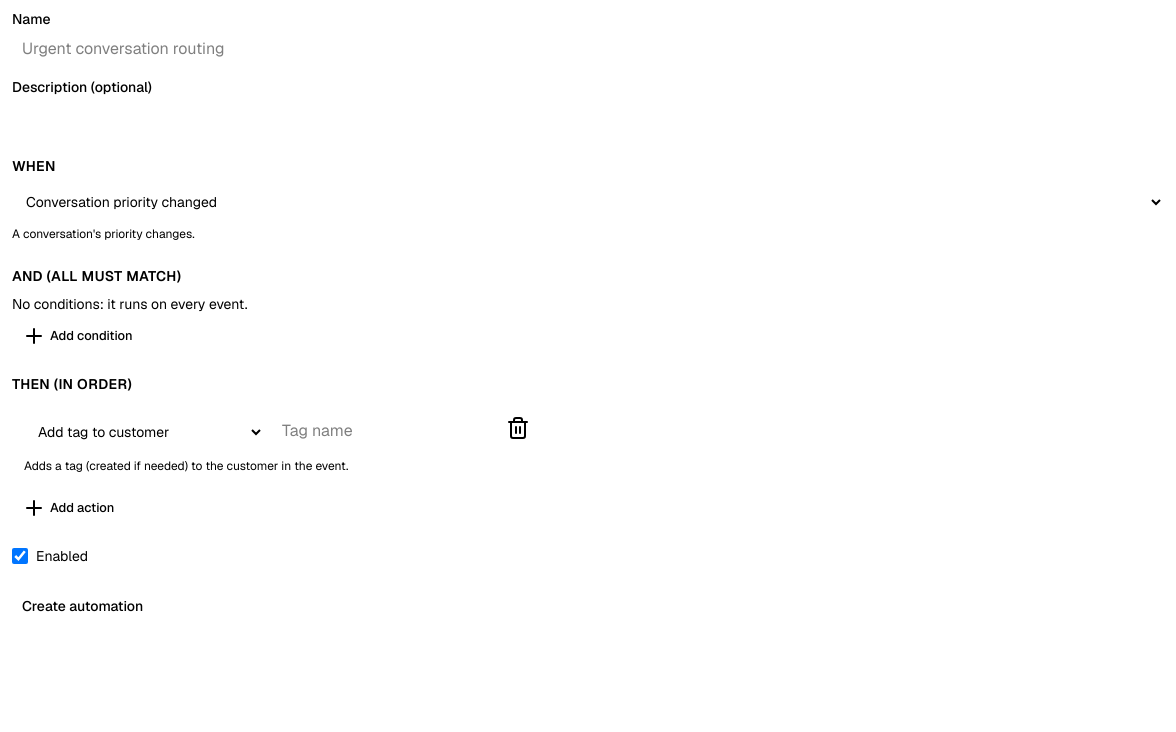
AutomationForm (builder) › shows every validation problem the server reports
Type "x" into the field labelled "Name".
click(588, 48); type("x")  # box x1=12 y1=32 x2=1164 y2=64
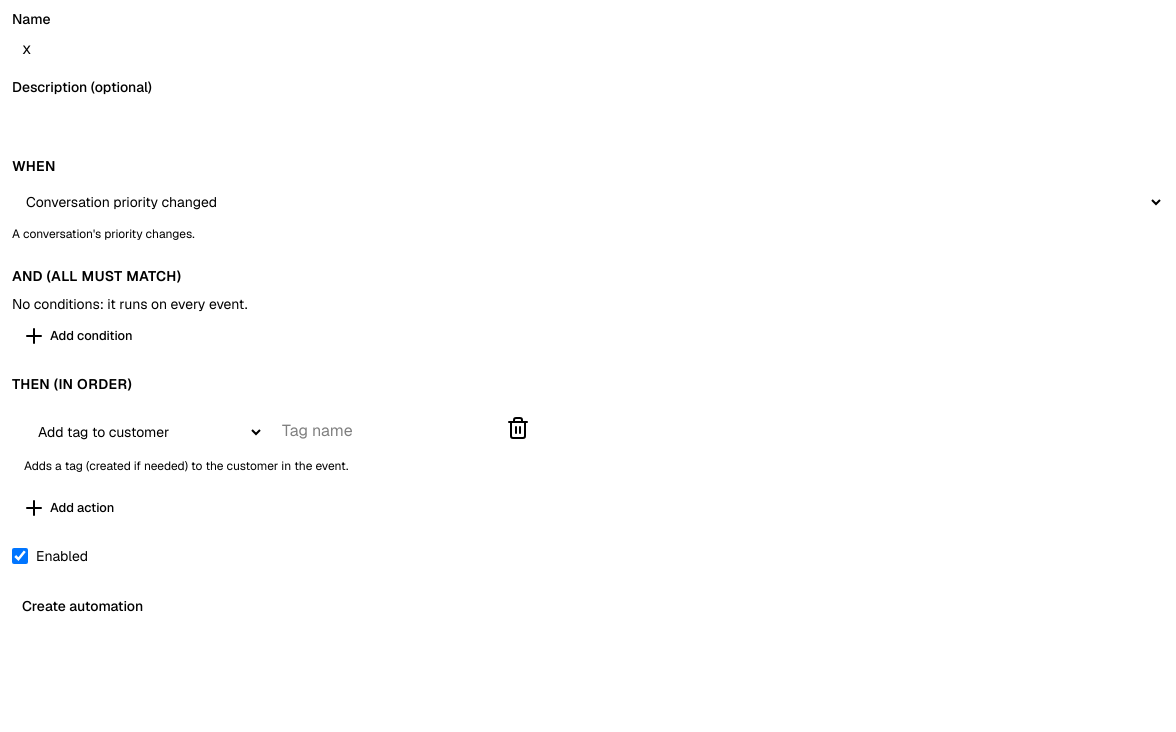
Click the button "Create automation".
click(83, 606)  # box x1=12 y1=590 x2=153 y2=622
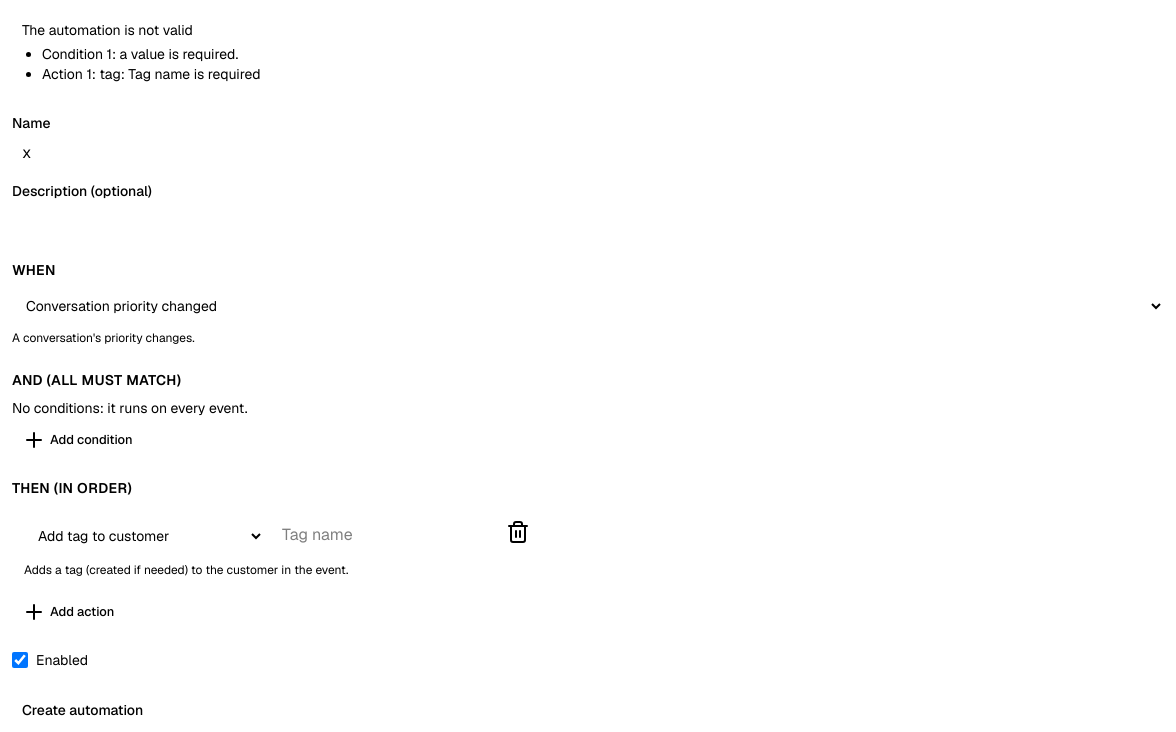
Now the message shows "The automation is not valid", box x1=22 y1=21 x2=193 y2=39
Now the message shows "Condition 1: a value is required.", box x1=42 y1=45 x2=238 y2=63
Now the message shows "Action 1: tag: Tag name is required", box x1=42 y1=65 x2=261 y2=83
